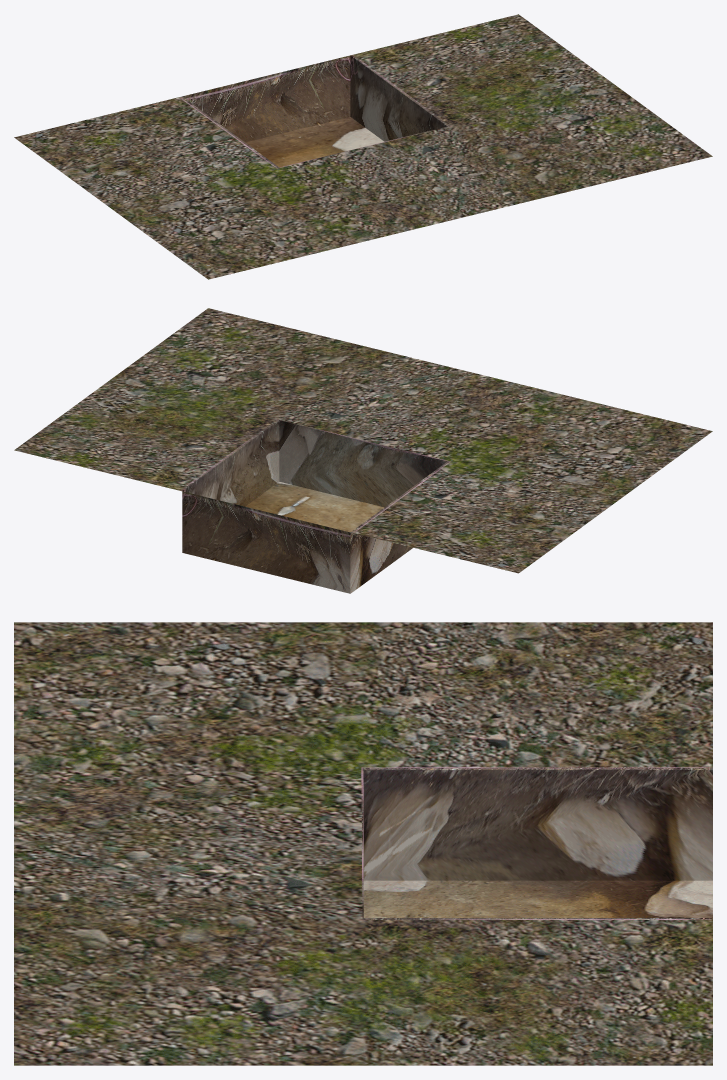
The model's file is unit_model_half.fbx.
3 views of the same model, one above another, from view 1: azimuth 30°, elevation 25°; view 2: azimuth 150°, elevation 25°; view 3: azimuth 270°, elevation 25° (orthographic). The views are drawn at different scales.
Parts seen in each view (by area): view 1: Plane; view 2: Plane; view 3: Plane.
Boxes of the visible parts, <box> form: Plane: <box>14,14,712,279</box>; Plane: <box>14,308,712,593</box>; Plane: <box>14,622,712,1065</box>.
Bounding box in the file's own units: 200 × 23.27 × 133.
